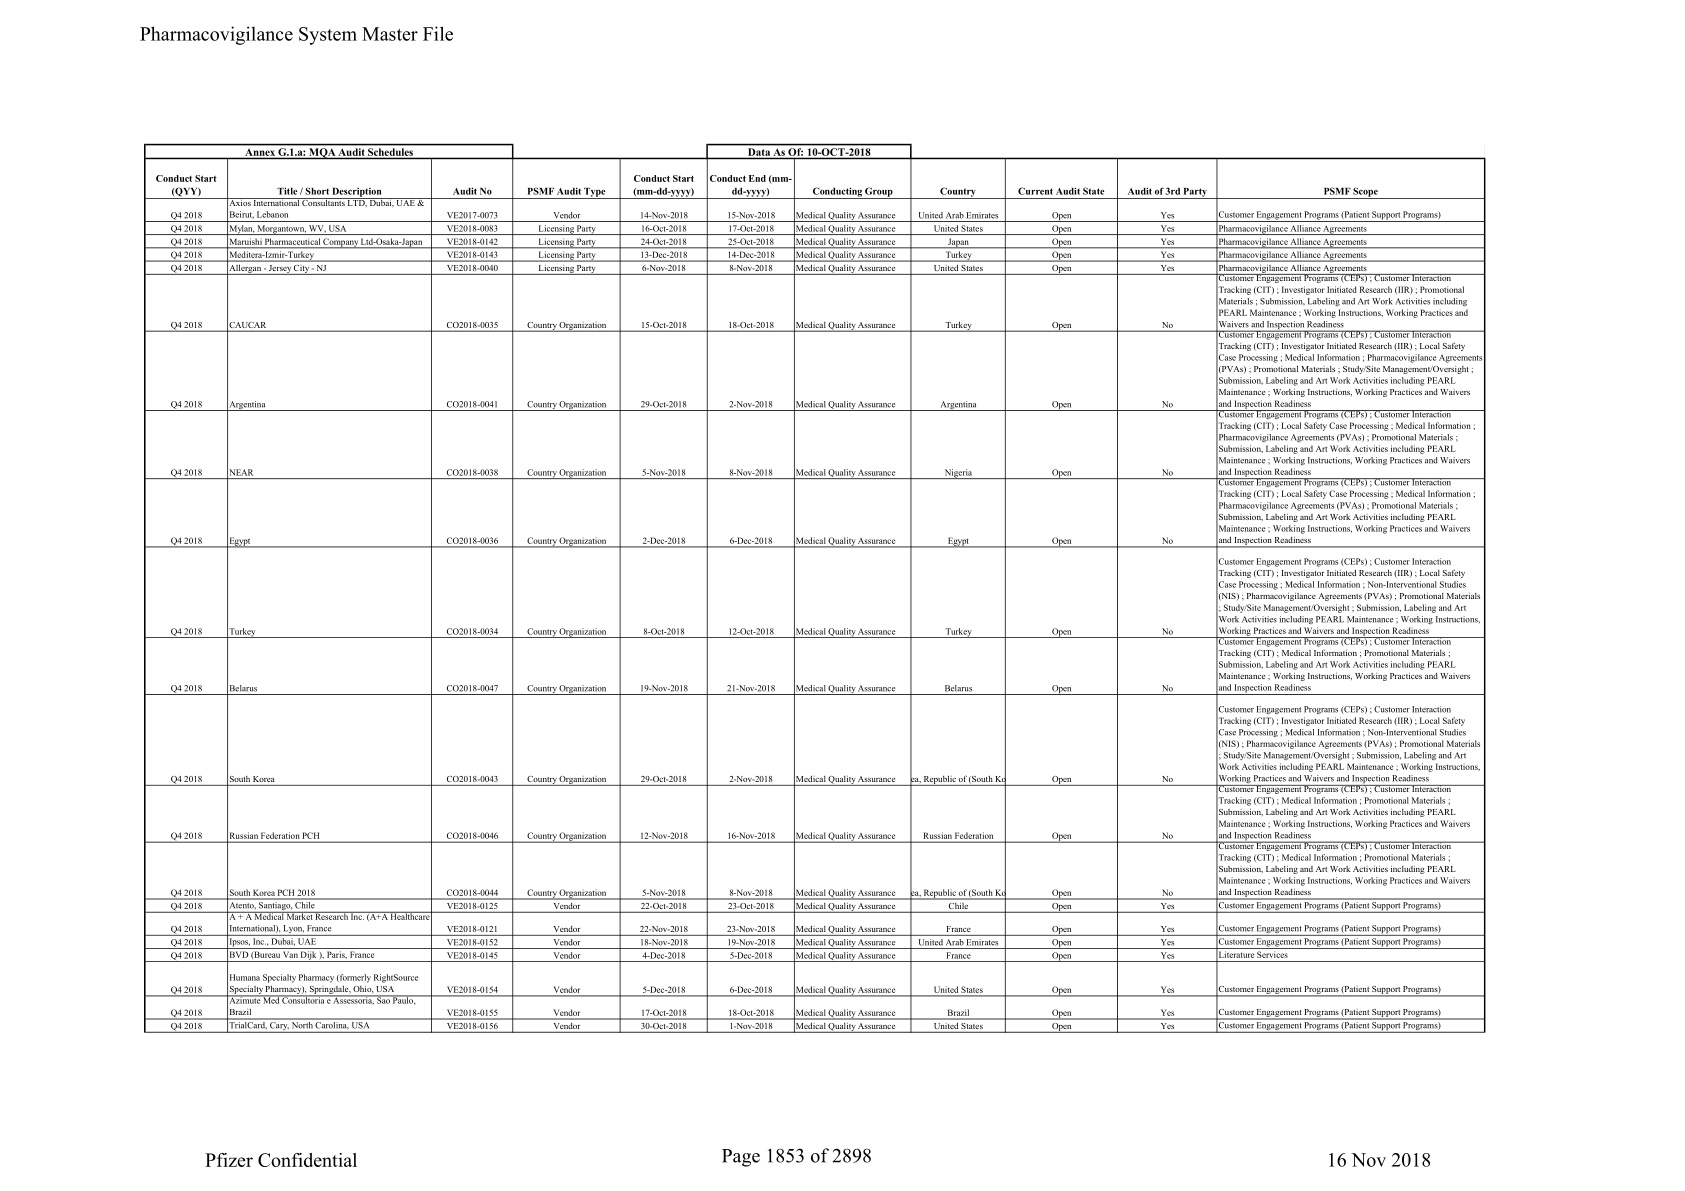merged_cells: (144, 143, 1486, 1034)
